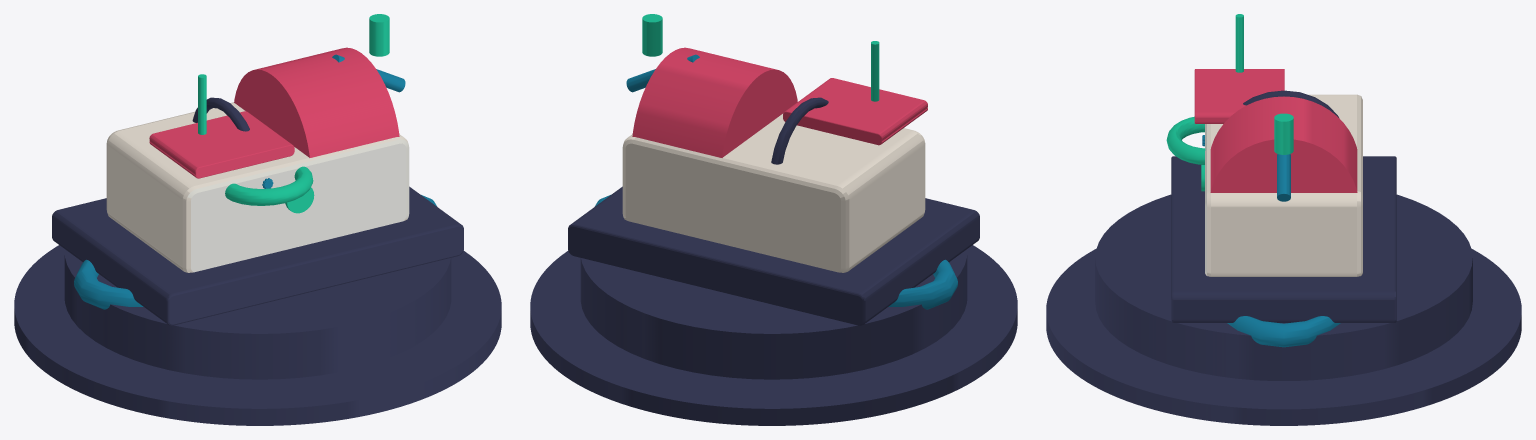
File: 0210_生活中的物理图鉴_管风琴.glb
3 renders of one model, left to right at view 1: azimuth 30°, elevation 25°; view 2: azimuth 150°, elevation 25°; view 3: azimuth 270°, elevation 25°, orthographic. The views are drawn at different scales.
Visible parts, largest first — view 1: card_0210; view 2: card_0210; view 3: card_0210.
Boxes of the visible parts, x1,y1,x2,y2 form: card_0210: [14, 14, 501, 425]; card_0210: [530, 14, 1017, 425]; card_0210: [1046, 14, 1521, 425].
Size of the model in its own units: 1.56 by 1 by 1.58.
